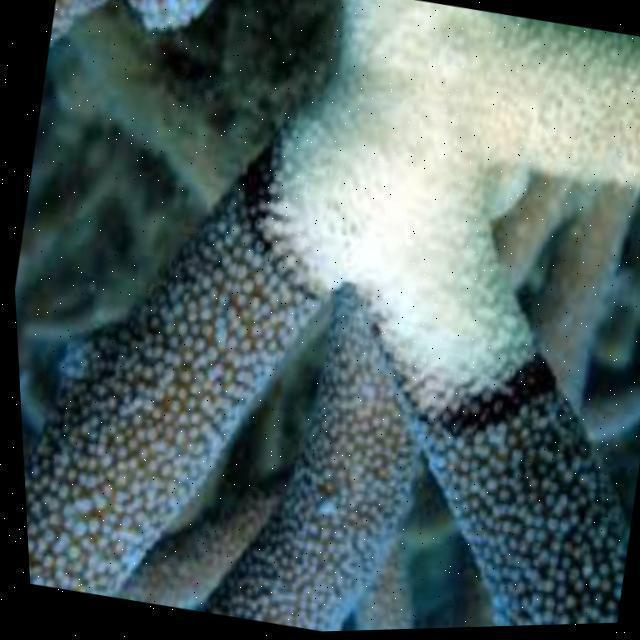Bleached Coral: (275, 0, 640, 437)
